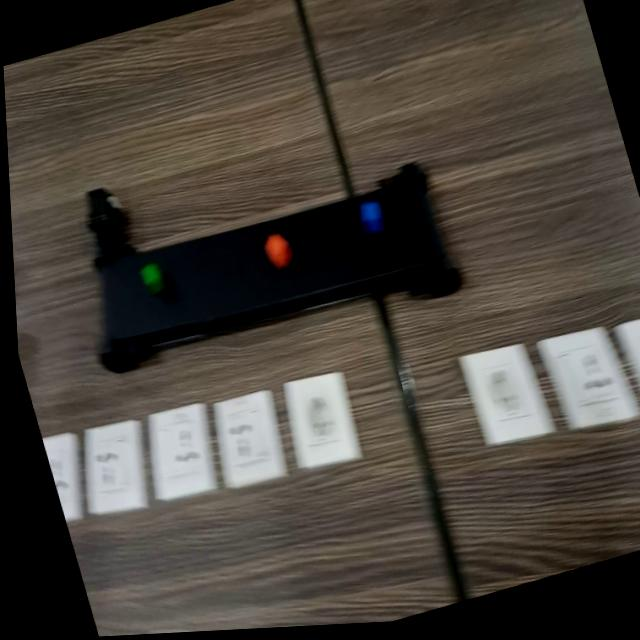cube: (130, 249, 170, 309), (351, 198, 390, 244)
